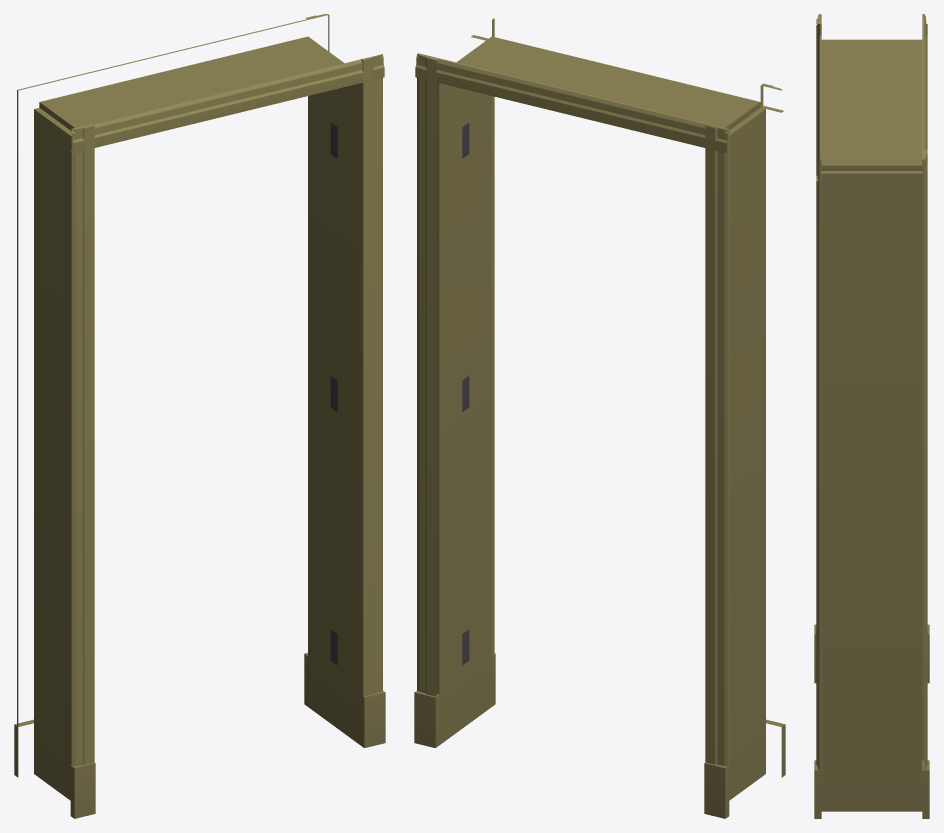
File: door_frame_narrow.glb
3 renders of one model, left to right at view 1: azimuth 30°, elevation 25°; view 2: azimuth 150°, elevation 25°; view 3: azimuth 270°, elevation 25°, orthographic. The views are drawn at different scales.
Visible parts, largest first — view 1: door_frame_narrow; view 2: door_frame_narrow; view 3: door_frame_narrow.
Part boxes in pixels (box(x1,y1,x2,y2)): door_frame_narrow: box(14, 14, 385, 818); door_frame_narrow: box(414, 18, 785, 818); door_frame_narrow: box(814, 14, 929, 818).
Size of the model in its own units: 1.03 by 2.17 by 0.344.
